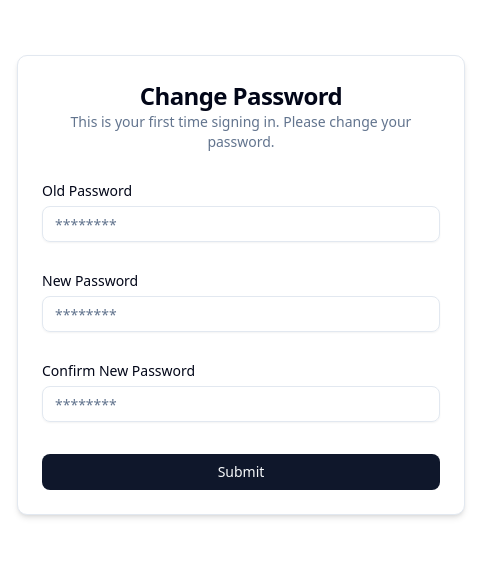
it: FirstPasswordChangePage › shows error if mutation throws
In the password field labelled "Old Password": [241, 224] box top-left (42, 206), bottom-right (440, 242), type "oldpassword"
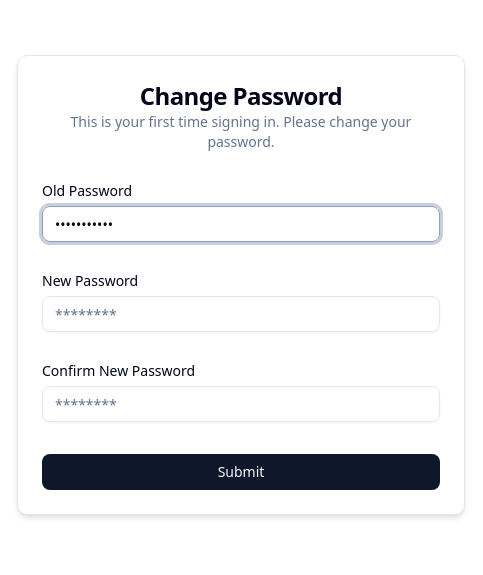
In the password field labelled "New Password": [241, 314] box top-left (42, 296), bottom-right (440, 332), type "newpassword"
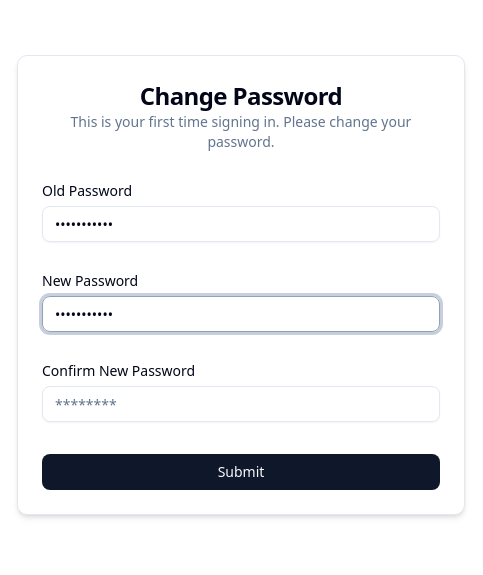
In the password field labelled "Confirm New Password": [241, 404] box top-left (42, 386), bottom-right (440, 422), type "newpassword"
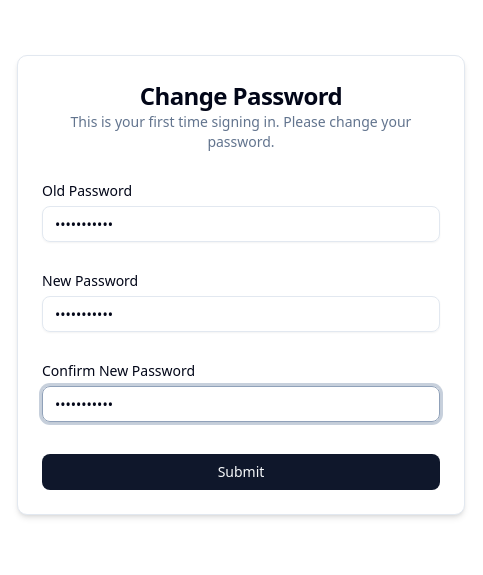
Click the button "Submit": [241, 472] box top-left (42, 454), bottom-right (440, 490)
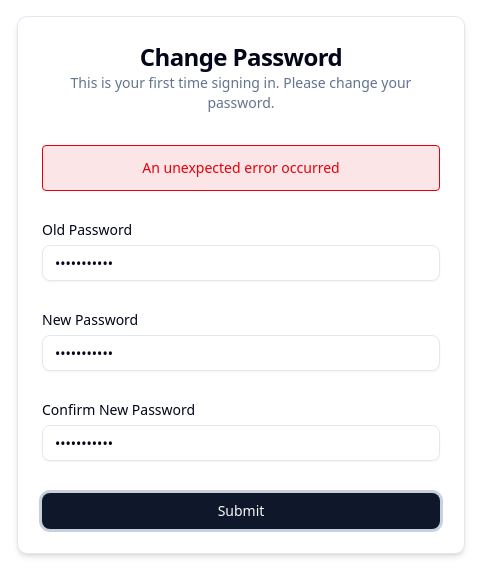
expect the text "An unexpected error occurred" is shown: met, box top-left (42, 145), bottom-right (440, 191)
